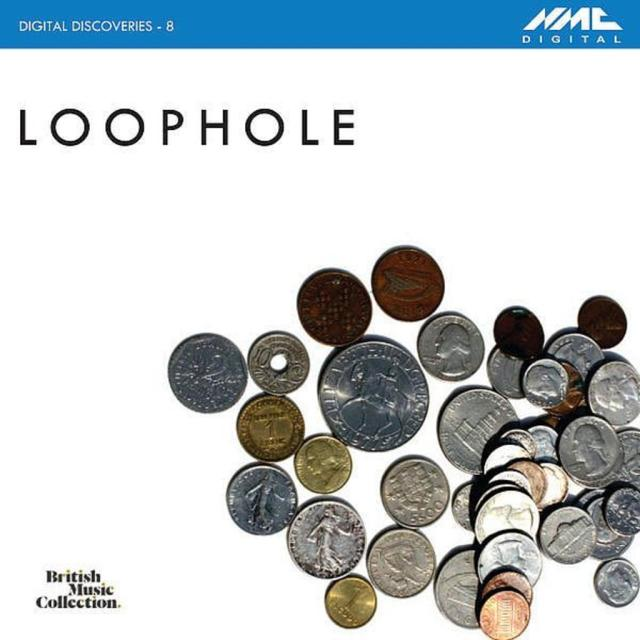Coin: (316, 334, 431, 452), (435, 381, 522, 474), (169, 330, 251, 415), (368, 244, 448, 322), (297, 265, 373, 347), (287, 500, 364, 579), (230, 387, 302, 465), (365, 526, 442, 598), (224, 464, 298, 534), (380, 457, 447, 531), (417, 310, 485, 380), (246, 332, 310, 401), (433, 544, 481, 629), (559, 411, 619, 479), (476, 530, 544, 588), (290, 434, 350, 496), (577, 495, 635, 559), (586, 361, 639, 427), (474, 492, 541, 544), (541, 507, 598, 566), (546, 331, 604, 388), (572, 293, 627, 351), (324, 575, 377, 630), (493, 304, 546, 357), (477, 589, 528, 638), (487, 343, 530, 397), (595, 556, 639, 606), (522, 359, 569, 405), (478, 570, 532, 609), (576, 446, 622, 490), (473, 483, 531, 517), (545, 361, 577, 416), (509, 461, 545, 509), (603, 484, 639, 532), (613, 431, 639, 494), (529, 419, 561, 466), (481, 446, 526, 479), (543, 465, 569, 515), (503, 429, 534, 460), (485, 473, 530, 493)
